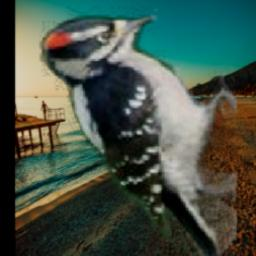Woodpecker: (38, 7, 236, 256)
